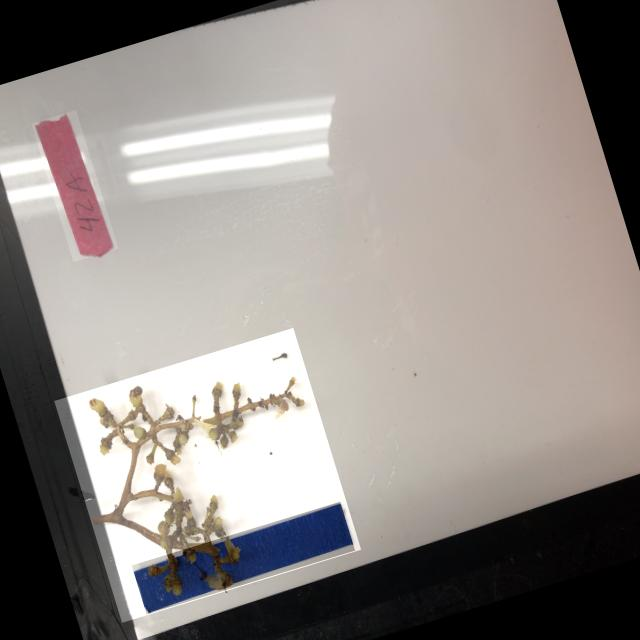index: (31, 108, 118, 260)
measure_label: (131, 500, 354, 613)
rachis_cluster: (54, 326, 360, 621)
